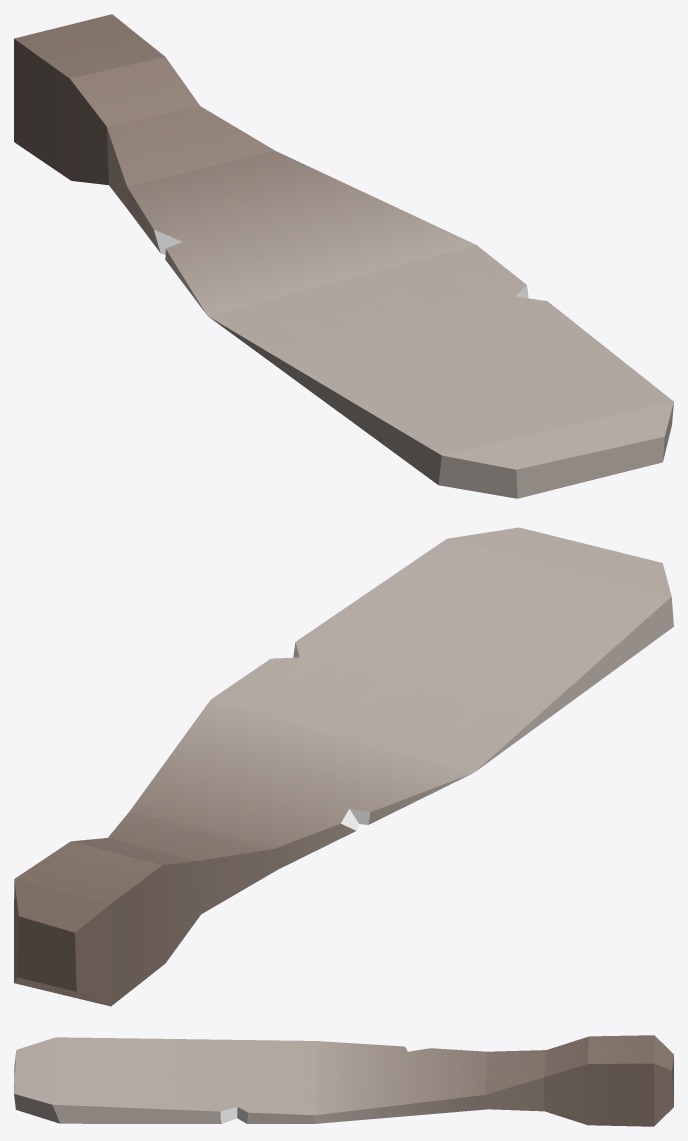
The model's file is hoeHead.fbx.
3 renders of one model, top to bottom at view 1: azimuth 30°, elevation 25°; view 2: azimuth 150°, elevation 25°; view 3: azimuth 270°, elevation 25°, orthographic. The views are drawn at different scales.
Visible parts, largest first — view 1: Hoe; view 2: Hoe; view 3: Hoe.
Boxes of the visible parts, x1,y1,x2,y2 form: Hoe: (14,14,673,498); Hoe: (14,527,673,1006); Hoe: (14,1035,673,1126).
Size of the model in its own units: 50.02 by 18.76 by 177.
